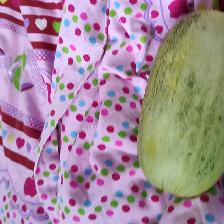gua: (143, 10, 222, 193)
